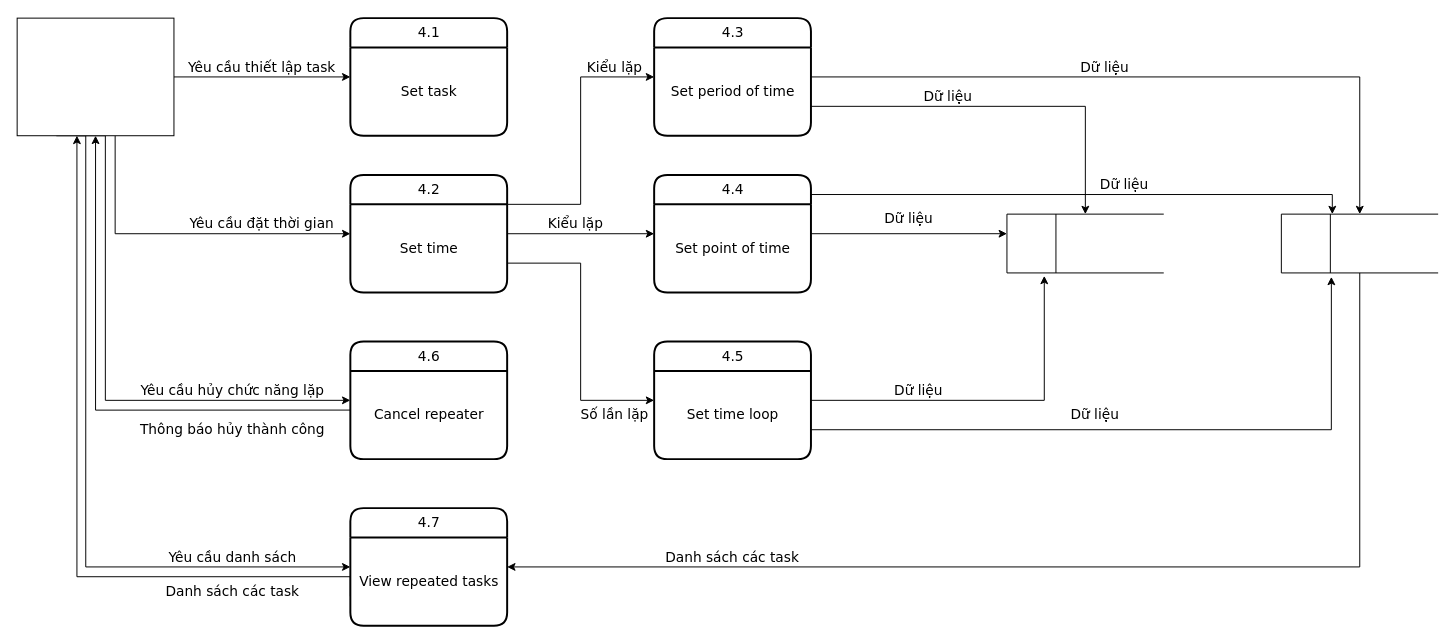
Some shapes in this 1455 by 643 pixel diagram are drawn without their labels. Here are the shapes that lost their labels. From the top down, the centre of each, then its label:
At point 95,76: "User".
At point 1085,243: "Local Storage".
At point 1359,243: "Database".
